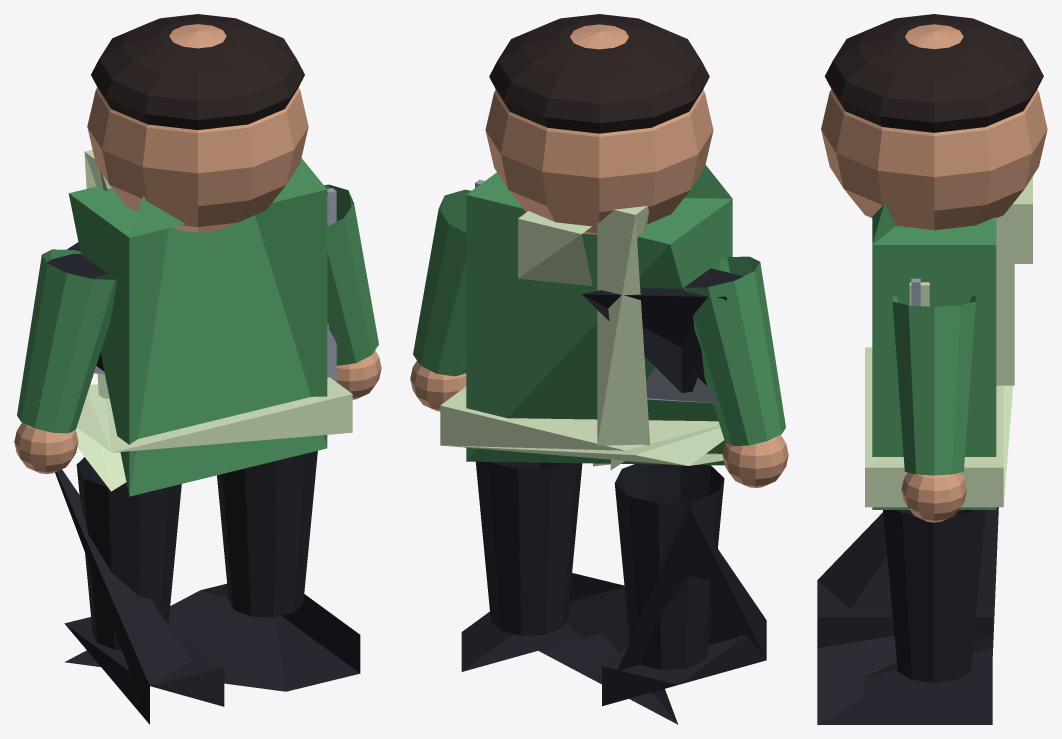
The model's file is Ranger_Female.obj.
The picture shows the model from 3 angles, left to right: view 1: azimuth 30°, elevation 25°; view 2: azimuth 150°, elevation 25°; view 3: azimuth 270°, elevation 25°; orthographic projection. The views are drawn at different scales.
Visible parts, largest first — view 1: Ranger_Female; view 2: Ranger_Female; view 3: Ranger_Female.
Part boxes in pixels (<box>): Ranger_Female: <box>14,14,381,724</box>; Ranger_Female: <box>410,14,788,724</box>; Ranger_Female: <box>817,14,1047,724</box>.
Size of the model in its own units: 1.16 by 1.93 by 0.63.
